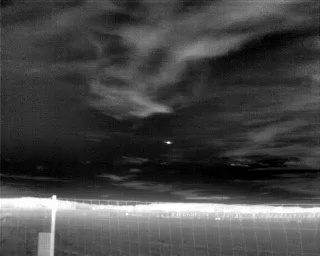AIRPLANE: (164, 139, 173, 146)
